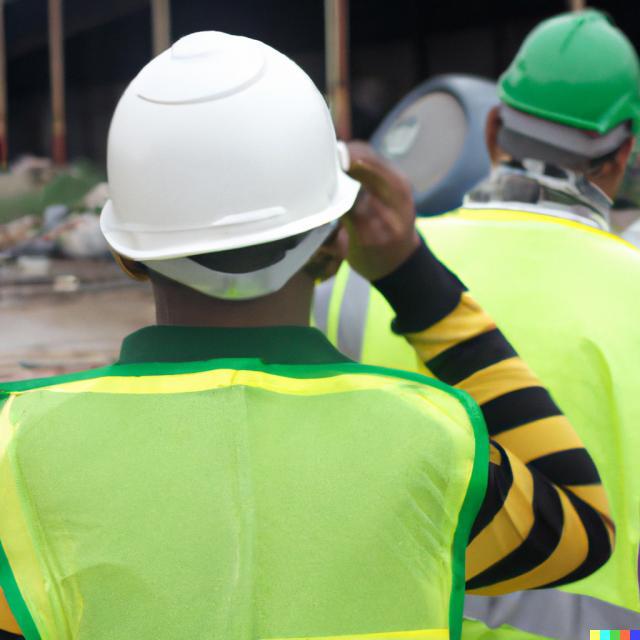Reflective-Jacket: (6, 338, 523, 640), (332, 209, 640, 640)
Safety-Helmet: (92, 32, 362, 266), (491, 7, 635, 183)
